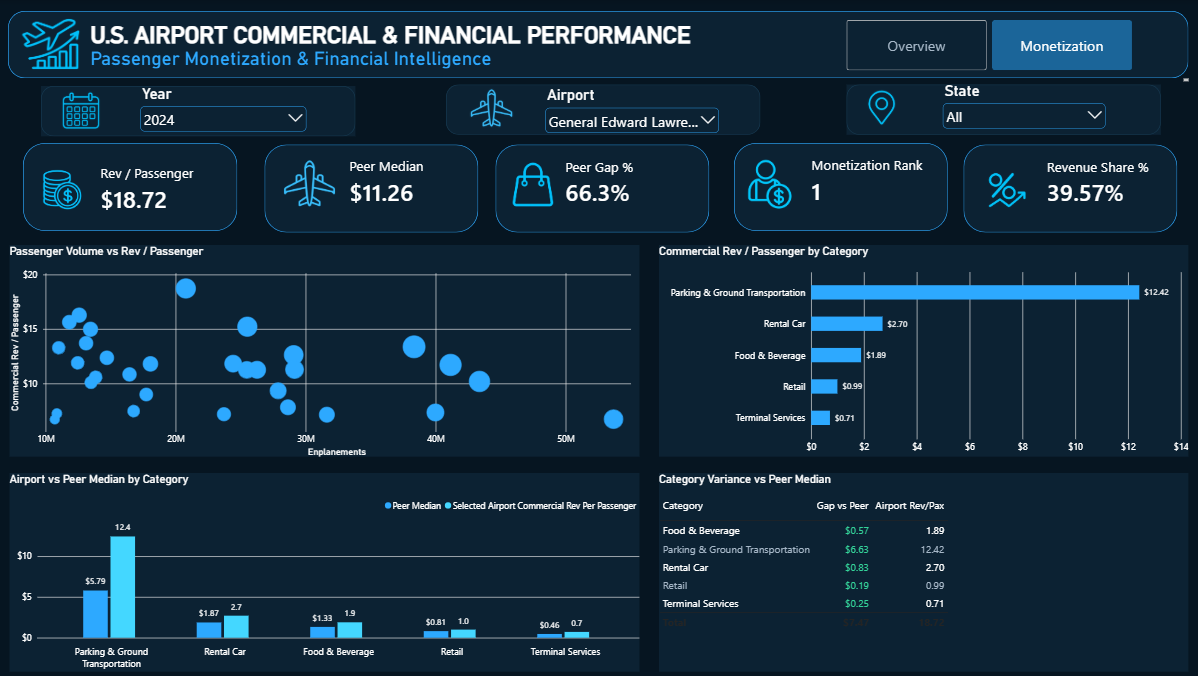

The page's visual inventory and layout, read from the dashboard file:
{"tool":"powerbi","page":{"name":"Monetization","canvas":[1920,1080],"ordinal":1},"visuals":[{"type":"shape","box":[20.2,20.2,1877.7,106.9],"z":0},{"type":"textbox","title":"          U.S. AIRPORT COMMERCIAL & FINANCIAL PERFORMANCE","box":[149.4,35.9,1774.6,89.6],"z":1000},{"type":"textbox","title":"Passenger Monetization & Financial Intelligence","box":[150.3,76.3,1746.5,54.9],"z":2000},{"type":"shape","box":[71.6,138.4,500,80],"z":3000},{"type":"shape","box":[715.8,136,500,80],"z":4000},{"type":"shape","box":[1352.8,136,500,80],"z":5000},{"type":"slicer","fields":{"Values":["dim_airport.Airport_Name"]},"box":[868.5,138.4,286.3,78.7],"z":6000},{"type":"slicer","fields":{"Values":["dim_geo.State"]},"box":[1500.7,131.2,269.3,85],"z":7000},{"type":"shape","box":[42.9,229,340.9,140],"z":8000},{"type":"cardVisual","title":"Operating Revenue","fields":{"Data":["_Measures.Commercial Revenue Per Passenger"]},"box":[150.3,236.2,212.3,133.6],"z":9000},{"type":"shape","box":[1538.9,231.4,340,140],"z":10000},{"type":"shape","box":[427.1,231.4,340,140],"z":11000},{"type":"shape","box":[794.5,231.4,340,140],"z":12000},{"type":"shape","box":[1173.9,229,340,140],"z":13000},{"type":"cardVisual","fields":{"Data":["_Measures.Peer Median Known Commercial Revenue Per Passenger"]},"box":[546.7,212.1,243.4,159.9],"z":14000},{"type":"cardVisual","fields":{"Data":["_Measures.Commercial Rev Per Passenger vs Peer Median %"]},"box":[889.9,217.1,242.7,150.2],"z":15000},{"type":"cardVisual","fields":{"Data":["_Measures.Airport Rank - Revenue Per Passenger"]},"box":[1281.7,215.1,257.7,150.3],"z":16000},{"type":"cardVisual","fields":{"Data":["_Measures.Commercial Revenue Share %"]},"box":[1655.1,218.1,228.2,150.2],"z":17000},{"type":"slicer","fields":{"Values":["dim_year.Year"]},"box":[224.3,136,274.4,83.5],"z":23000},{"type":"image","box":[749.9,116.5,77.7,113.5],"z":24000},{"type":"image","box":[98.6,116.5,74.7,116.5],"z":25000},{"type":"image","box":[59.8,248,89.6,104.6],"z":26000},{"type":"image","box":[1368.3,137.4,83.7,68.7],"z":27000},{"type":"image","box":[1556.5,256.9,92.6,85],"z":28000},{"type":"image","box":[427.2,245,143.4,95.6],"z":29000},{"type":"image","box":[788.7,248,128.5,92.6],"z":30000},{"type":"image","box":[1177.1,245,107.6,95.6],"z":31000},{"type":"image","box":[20.9,9,128.5,116.5],"z":32000},{"type":"pageNavigator","box":[1352.8,33.4,454.1,80.7],"z":33000},{"type":"scatterChart","title":"Passenger Volume vs Rev / Passenger","fields":{"Category":["dim_airport.Airport_Code"],"Size":["_Measures.Known Commercial Revenue"],"X":["_Measures.Total Enplanements"],"Y":["_Measures.Commercial Revenue Per Passenger"]},"box":[21.5,391.3,1002.1,336.4],"z":33001},{"type":"clusteredBarChart","title":"Commercial Rev / Passenger by Category","fields":{"Category":["dim_revenue_category.Revenue_Category"],"Y":["_Measures.Commercial Revenue Per Passenger"]},"box":[1054.6,391.3,842.2,336.4],"z":33002},{"type":"clusteredColumnChart","title":"Airport vs Peer Median by Category","fields":{"Category":["dim_revenue_category.Revenue_Category"],"Y":["_Measures.Peer Median Known Commercial Revenue Per Passenger","_Measures.Selected Airport Commercial Rev Per Passenger"]},"box":[21.5,753.9,1002,316],"z":33003},{"type":"tableEx","title":"Category Variance vs Peer Median","fields":{"Values":["dim_revenue_category.Revenue_Category","_Measures.Category Gap vs Peer Median","_Measures.Selected Airport Commercial Rev Per Passenger"]},"box":[1055,754,842,316],"z":33004}]}

Visuals, with their boxes in screenshot pixels (x1, y1, x2, y2), scaled from the page's 1920x1080 canvas onto the 1198x676 screenshot:
shape: {"left": 13, "top": 13, "right": 1184, "bottom": 80}
"          U.S. AIRPORT COMMERCIAL & FINANCIAL PERFORMANCE" textbox: {"left": 93, "top": 22, "right": 1197, "bottom": 79}
"Passenger Monetization & Financial Intelligence" textbox: {"left": 94, "top": 48, "right": 1184, "bottom": 82}
shape: {"left": 45, "top": 87, "right": 357, "bottom": 137}
shape: {"left": 447, "top": 85, "right": 759, "bottom": 135}
shape: {"left": 844, "top": 85, "right": 1156, "bottom": 135}
slicer - dim_airport.Airport_Name: {"left": 542, "top": 87, "right": 721, "bottom": 136}
slicer - dim_geo.State: {"left": 936, "top": 82, "right": 1104, "bottom": 135}
shape: {"left": 27, "top": 143, "right": 239, "bottom": 231}
"Operating Revenue" cardVisual: {"left": 94, "top": 148, "right": 226, "bottom": 231}
shape: {"left": 960, "top": 145, "right": 1172, "bottom": 232}
shape: {"left": 266, "top": 145, "right": 479, "bottom": 232}
shape: {"left": 496, "top": 145, "right": 708, "bottom": 232}
shape: {"left": 732, "top": 143, "right": 945, "bottom": 231}
cardVisual - _Measures.Peer Median Known Commercial Revenue Per Passenger: {"left": 341, "top": 133, "right": 493, "bottom": 233}
cardVisual - _Measures.Commercial Rev Per Passenger vs Peer Median %: {"left": 555, "top": 136, "right": 707, "bottom": 230}
cardVisual - _Measures.Airport Rank - Revenue Per Passenger: {"left": 800, "top": 135, "right": 961, "bottom": 229}
cardVisual - _Measures.Commercial Revenue Share %: {"left": 1033, "top": 137, "right": 1175, "bottom": 231}
slicer - dim_year.Year: {"left": 140, "top": 85, "right": 311, "bottom": 137}
image: {"left": 468, "top": 73, "right": 516, "bottom": 144}
image: {"left": 62, "top": 73, "right": 108, "bottom": 146}
image: {"left": 37, "top": 155, "right": 93, "bottom": 221}
image: {"left": 854, "top": 86, "right": 906, "bottom": 129}
image: {"left": 971, "top": 161, "right": 1029, "bottom": 214}
image: {"left": 267, "top": 153, "right": 356, "bottom": 213}
image: {"left": 492, "top": 155, "right": 572, "bottom": 213}
image: {"left": 734, "top": 153, "right": 802, "bottom": 213}
image: {"left": 13, "top": 6, "right": 93, "bottom": 79}
pageNavigator: {"left": 844, "top": 21, "right": 1127, "bottom": 71}
"Passenger Volume vs Rev / Passenger" scatterChart: {"left": 13, "top": 245, "right": 639, "bottom": 455}
"Commercial Rev / Passenger by Category" clusteredBarChart: {"left": 658, "top": 245, "right": 1184, "bottom": 455}
"Airport vs Peer Median by Category" clusteredColumnChart: {"left": 13, "top": 472, "right": 639, "bottom": 670}
"Category Variance vs Peer Median" tableEx: {"left": 658, "top": 472, "right": 1184, "bottom": 670}
